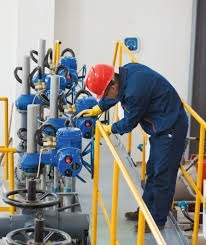helmet: (84, 62, 117, 102)
person with partial safety: (84, 62, 192, 149)
